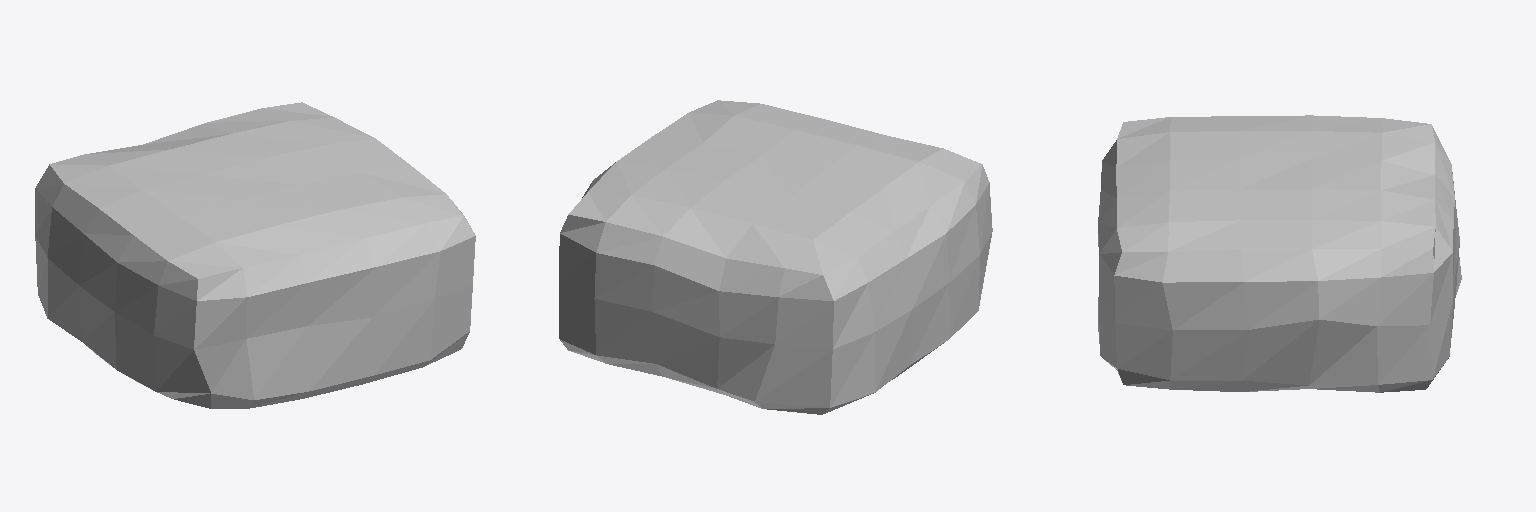
Rendered from stone_block_2x2_2.obj.
3 renders of one model, left to right at view 1: azimuth 30°, elevation 25°; view 2: azimuth 150°, elevation 25°; view 3: azimuth 270°, elevation 25°, orthographic.
Parts seen in each view (by area): view 1: stone_block_2x2_2; view 2: stone_block_2x2_2; view 3: stone_block_2x2_2.
Boxes of the visible parts, x1,y1,x2,y2 form: stone_block_2x2_2: [35, 102, 475, 408]; stone_block_2x2_2: [559, 100, 992, 414]; stone_block_2x2_2: [1098, 115, 1461, 392].
Size of the model in its own units: 4.12 by 1.96 by 4.03.